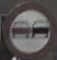No overtake: (4, 4, 51, 48)
